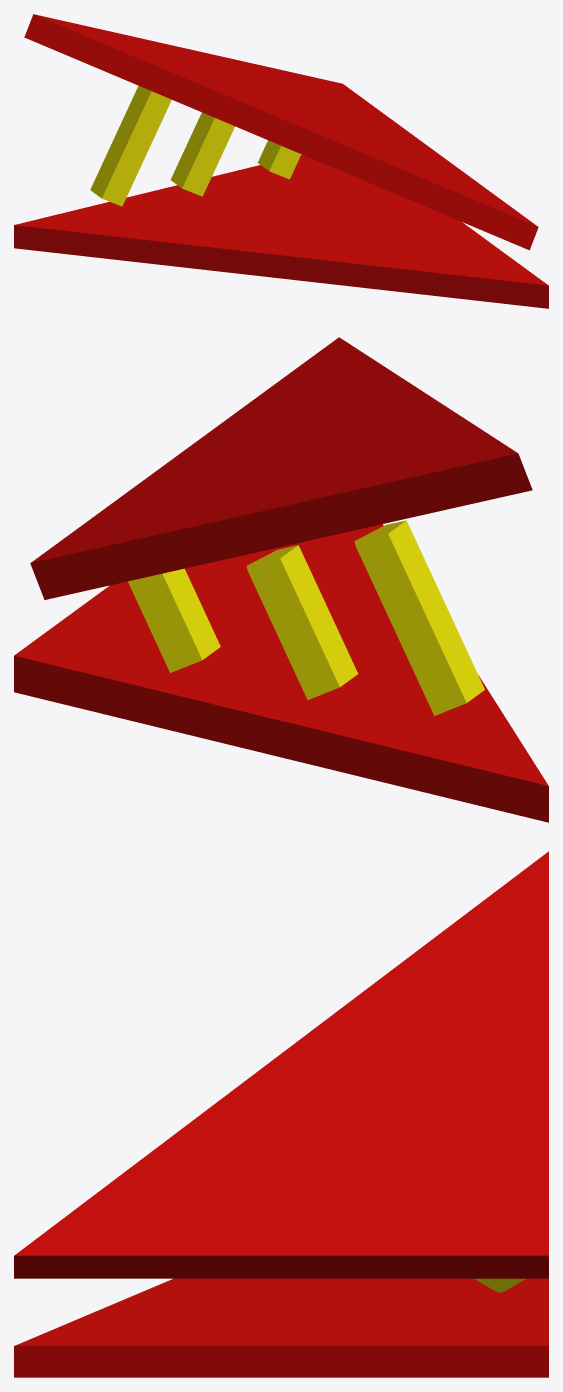
Rendered from lamp4.fbx.
The picture shows the model from 3 angles, top to bottom: view 1: azimuth 30°, elevation 25°; view 2: azimuth 150°, elevation 25°; view 3: azimuth 270°, elevation 25°; orthographic projection. The views are drawn at different scales.
Parts seen in each view (by area): view 1: PR_floorlamp_04, PR_floorlamp_04_cell.012, PR_floorlamp_04_cell.004, PR_floorlamp_04_cell.011, PR_floorlamp_04_cell.014, PR_floorlamp_04_cell.016, PR_floorlamp_04_cell.006, PR_floorlamp_04_cell.009, PR_floorlamp_04_cell.010, PR_floorlamp_04_cell.002, PR_floorlamp_04_cell.007, PR_floorlamp_04_cell.003; view 2: PR_floorlamp_04, PR_floorlamp_04_cell.004, PR_floorlamp_04_cell.009, PR_floorlamp_04_cell.016, PR_floorlamp_04_cell.012, PR_floorlamp_04_cell.011, PR_floorlamp_04_cell.006, PR_floorlamp_04_cell.014, PR_floorlamp_04_cell.017, PR_floorlamp_04_cell.007, PR_floorlamp_04_cell.008, PR_floorlamp_04_cell.001 (+5 smaller); view 3: PR_floorlamp_04, PR_floorlamp_04_cell.004, PR_floorlamp_04_cell.016, PR_floorlamp_04_cell.012, PR_floorlamp_04_cell.009, PR_floorlamp_04_cell.001, PR_floorlamp_04_cell.006, PR_floorlamp_04_cell, PR_floorlamp_04_cell.008.
Part boxes in pixels (box(x1,y1,x2,y2)): PR_floorlamp_04: box(14, 14, 464, 290); PR_floorlamp_04_cell.012: box(332, 172, 548, 308); PR_floorlamp_04_cell.004: box(309, 98, 538, 250); PR_floorlamp_04_cell.011: box(182, 199, 386, 290); PR_floorlamp_04_cell.014: box(89, 214, 233, 272); PR_floorlamp_04_cell.016: box(232, 80, 410, 197); PR_floorlamp_04_cell.006: box(244, 164, 348, 244); PR_floorlamp_04_cell.009: box(114, 48, 301, 149); PR_floorlamp_04_cell.010: box(14, 218, 101, 256); PR_floorlamp_04_cell.002: box(90, 137, 132, 202); PR_floorlamp_04_cell.007: box(190, 115, 233, 155); PR_floorlamp_04_cell.003: box(172, 140, 220, 196); PR_floorlamp_04: box(14, 367, 548, 822); PR_floorlamp_04_cell.004: box(79, 337, 384, 589); PR_floorlamp_04_cell.009: box(289, 392, 532, 541); PR_floorlamp_04_cell.016: box(154, 367, 422, 572); PR_floorlamp_04_cell.012: box(105, 524, 383, 627); PR_floorlamp_04_cell.011: box(275, 567, 420, 752); PR_floorlamp_04_cell.006: box(105, 577, 349, 719); PR_floorlamp_04_cell.014: box(389, 675, 511, 766); PR_floorlamp_04_cell.017: box(354, 520, 444, 625); PR_floorlamp_04_cell.007: box(246, 545, 327, 631); PR_floorlamp_04_cell.008: box(30, 552, 88, 599); PR_floorlamp_04_cell.001: box(33, 590, 104, 658); PR_floorlamp_04: box(14, 851, 548, 1377); PR_floorlamp_04_cell.004: box(14, 1153, 492, 1278); PR_floorlamp_04_cell.016: box(150, 1051, 452, 1152); PR_floorlamp_04_cell.012: box(15, 1278, 405, 1377); PR_floorlamp_04_cell.009: box(266, 897, 496, 1065); PR_floorlamp_04_cell.001: box(366, 1327, 548, 1361); PR_floorlamp_04_cell.006: box(293, 1278, 465, 1309); PR_floorlamp_04_cell: box(326, 1362, 548, 1377); PR_floorlamp_04_cell.008: box(489, 1246, 548, 1278).
Size of the model in its own units: 226 by 146 by 226.
